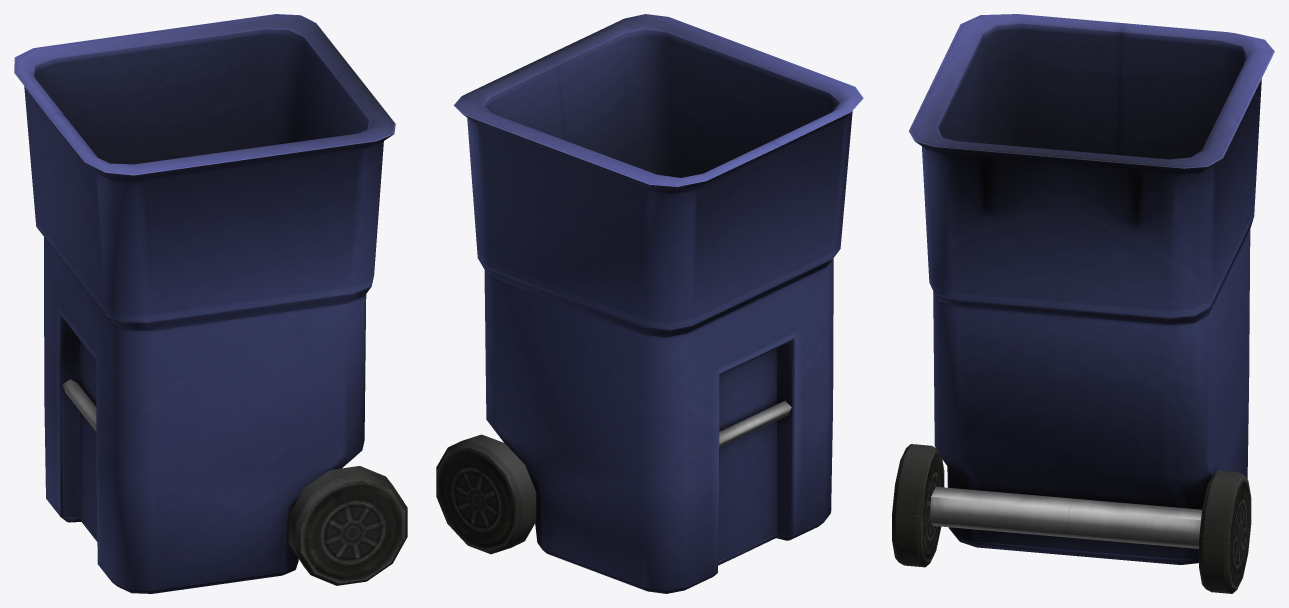
Rendered from SiWangPenQuan_01_lajitong_01.FBX.
3 views of the same model, side by side, from view 1: azimuth 30°, elevation 25°; view 2: azimuth 150°, elevation 25°; view 3: azimuth 270°, elevation 25° (orthographic). The views are drawn at different scales.
Parts seen in each view (by area): view 1: SiWangPenQuan_01_lajitong_01; view 2: SiWangPenQuan_01_lajitong_01; view 3: SiWangPenQuan_01_lajitong_01.
Boxes of the visible parts, x1,y1,x2,y2 form: SiWangPenQuan_01_lajitong_01: (14, 14, 407, 593); SiWangPenQuan_01_lajitong_01: (436, 14, 863, 593); SiWangPenQuan_01_lajitong_01: (892, 14, 1274, 593).
Size of the model in its own units: 296 by 386 by 302.
